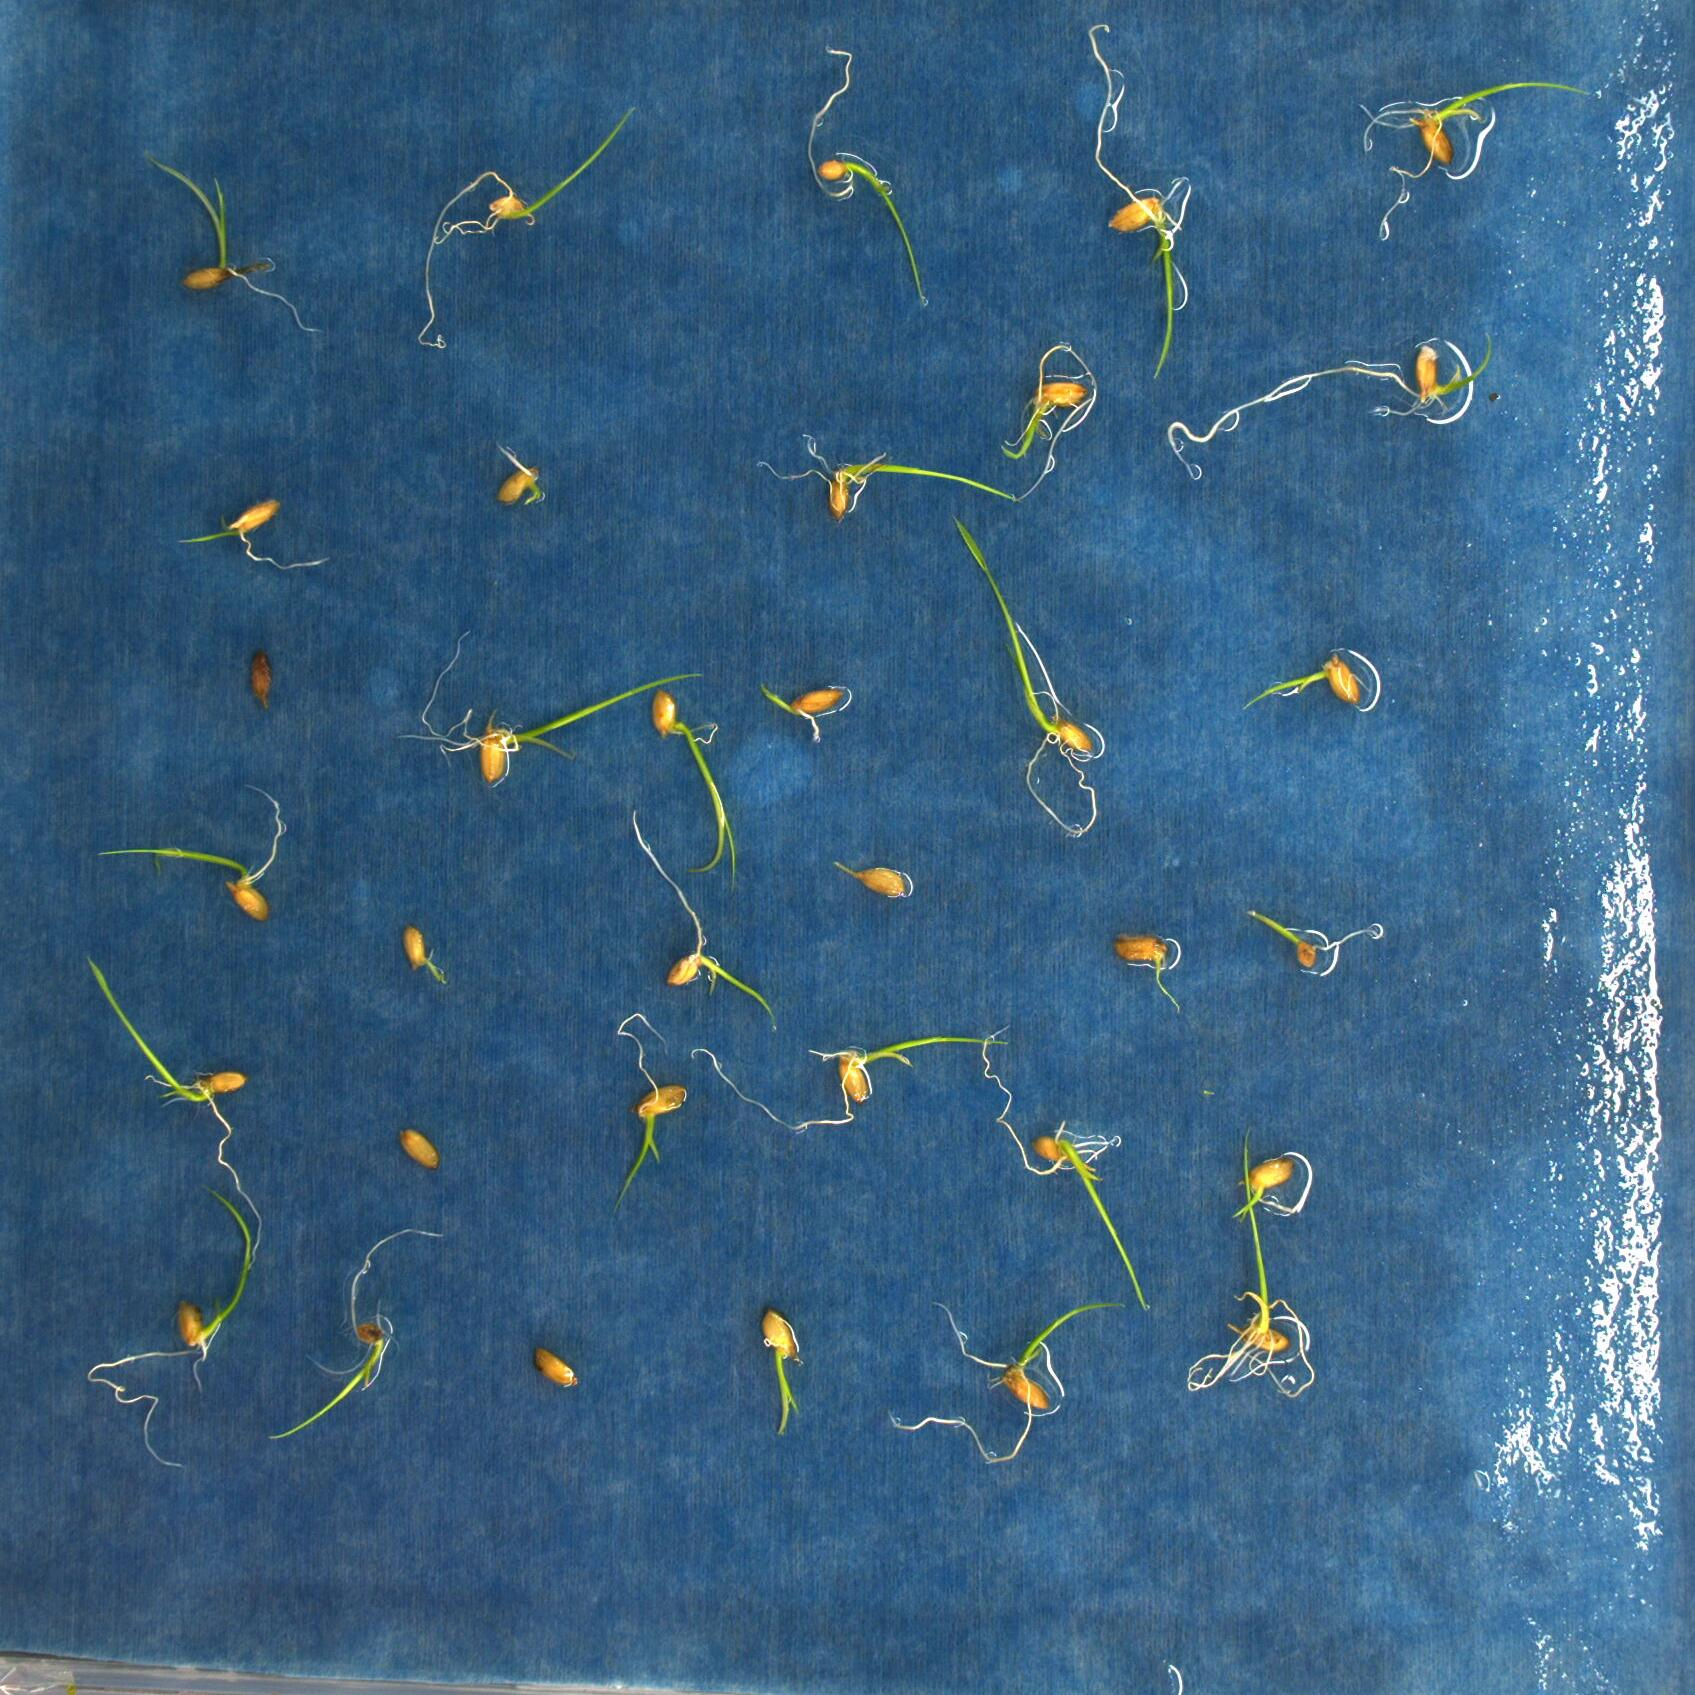not sprout: (1108, 931, 1186, 1012), (768, 680, 857, 744), (391, 1114, 455, 1177), (840, 858, 917, 905), (526, 1335, 579, 1399), (244, 641, 290, 712), (386, 914, 438, 972)
sprout: (933, 498, 1133, 854), (411, 90, 643, 369), (1166, 335, 1510, 501), (1048, 29, 1201, 390), (90, 945, 258, 1270), (979, 1010, 1152, 1309), (92, 1183, 262, 1475), (394, 627, 712, 781), (886, 1277, 1101, 1471), (1357, 70, 1607, 231), (792, 45, 927, 312), (262, 1229, 424, 1451), (147, 151, 326, 340), (1180, 1128, 1305, 1394), (719, 1023, 990, 1135), (92, 784, 296, 931), (757, 445, 1052, 532), (638, 827, 773, 1017), (636, 681, 757, 883), (593, 1012, 705, 1223), (1007, 348, 1118, 508), (168, 494, 345, 585), (1228, 889, 1405, 979), (737, 1293, 826, 1453), (1246, 653, 1371, 719), (1212, 1153, 1309, 1222), (477, 441, 563, 515)
